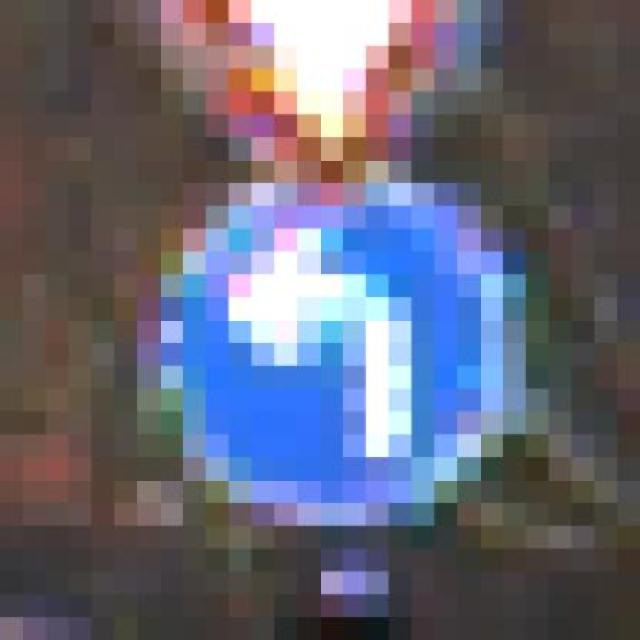Turn left ahead: (137, 137, 526, 526)
